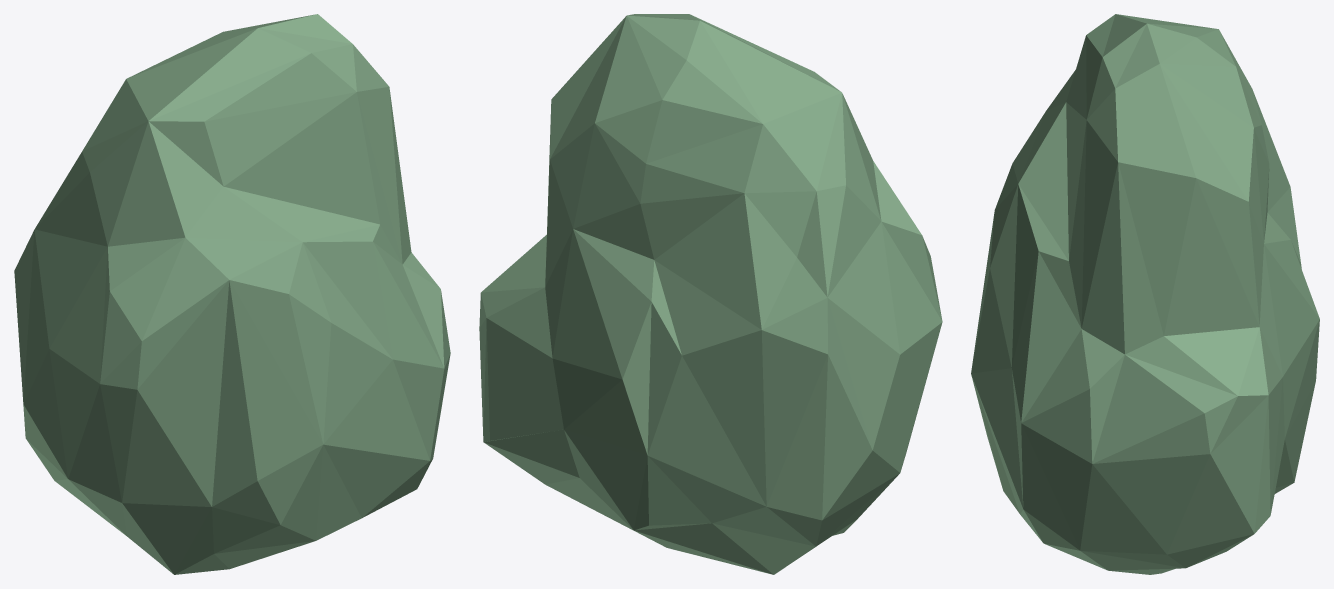
File: TallBush_FBX.fbx
The picture shows the model from 3 angles, left to right: view 1: azimuth 30°, elevation 25°; view 2: azimuth 150°, elevation 25°; view 3: azimuth 270°, elevation 25°; orthographic projection. The views are drawn at different scales.
Visible parts, largest first — view 1: Bush2; view 2: Bush2; view 3: Bush2.
Boxes of the visible parts, <box> form: Bush2: <box>14,14,450,574</box>; Bush2: <box>479,14,942,574</box>; Bush2: <box>971,14,1319,574</box>.
Size of the model in its own units: 128 by 163 by 96.13.
